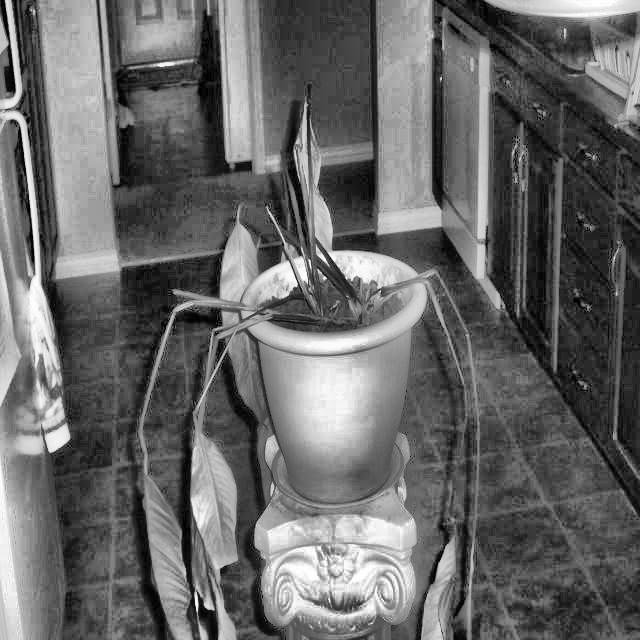plants: (117, 188, 507, 640)
